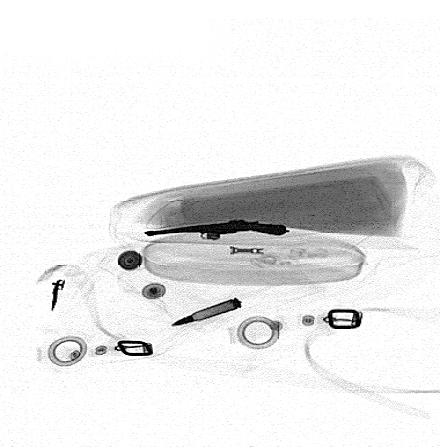Bullet: (171, 298, 241, 327)
Gun: (144, 218, 287, 237)
